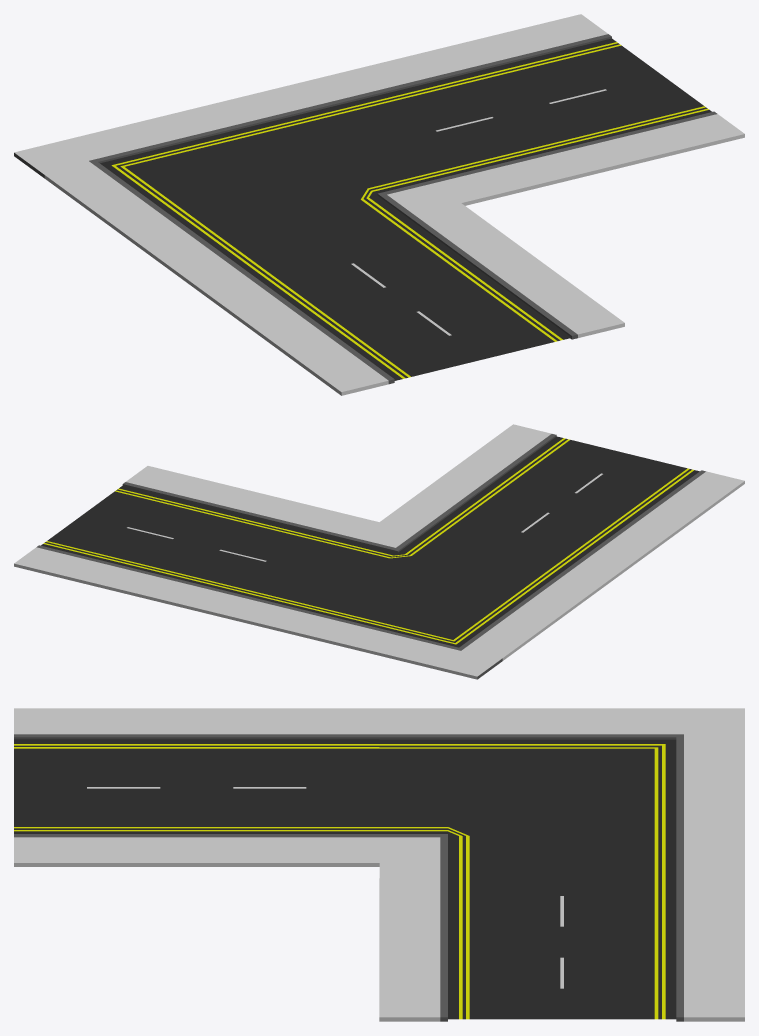
File: m_e_s_road_corner_full.fbx
3 views of the same model, one above another, from view 1: azimuth 30°, elevation 25°; view 2: azimuth 150°, elevation 25°; view 3: azimuth 270°, elevation 25° (orthographic). The views are drawn at different scales.
Visible parts, largest first — view 1: Cube, Cube.004, Cube.009, Cube.007, Cube.006, Cube.008, Cube.005, Cube.002, Cube.001, Cube.003, Cube.000; view 2: Cube, Cube.009, Cube.004, Cube.008, Cube.006, Cube.007, Cube.005, Cube.001, Cube.002, Cube.003, Cube.000; view 3: Cube.009, Cube.004, Cube, Cube.005, Cube.006, Cube.008, Cube.007, Cube.002, Cube.001, Cube.003, Cube.000.
Boxes of the visible parts, bbox=[...] form: Cube: bbox=[233, 218, 571, 380]; Cube.004: bbox=[100, 107, 428, 260]; Cube.009: bbox=[328, 38, 711, 180]; Cube.007: bbox=[431, 111, 744, 205]; Cube.006: bbox=[177, 259, 394, 395]; Cube.008: bbox=[298, 14, 611, 107]; Cube.005: bbox=[408, 203, 624, 339]; Cube.002: bbox=[44, 162, 230, 275]; Cube.001: bbox=[67, 83, 328, 163]; Cube.003: bbox=[14, 139, 97, 178]; Cube.000: bbox=[377, 180, 460, 217]; Cube: bbox=[423, 436, 699, 568]; Cube.009: bbox=[41, 485, 353, 601]; Cube.004: bbox=[272, 534, 565, 647]; Cube.008: bbox=[14, 545, 270, 622]; Cube.006: bbox=[568, 470, 744, 581]; Cube.007: bbox=[122, 466, 378, 541]; Cube.005: bbox=[380, 424, 556, 533]; Cube.001: bbox=[245, 602, 458, 668]; Cube.002: bbox=[459, 568, 611, 660]; Cube.003: bbox=[434, 647, 502, 679]; Cube.000: bbox=[354, 522, 422, 552]; Cube.009: bbox=[448, 865, 676, 1019]; Cube.004: bbox=[379, 739, 676, 864]; Cube: bbox=[14, 739, 379, 833]; Cube.005: bbox=[14, 834, 379, 866]; Cube.006: bbox=[14, 708, 379, 739]; Cube.008: bbox=[676, 863, 744, 1021]; Cube.007: bbox=[379, 863, 447, 1021]; Cube.002: bbox=[379, 708, 676, 739]; Cube.001: bbox=[676, 737, 744, 862]; Cube.003: bbox=[676, 708, 744, 737]; Cube.000: bbox=[379, 834, 447, 866].
Bounding box in the file's own units: 3200 × 20 × 3200.
